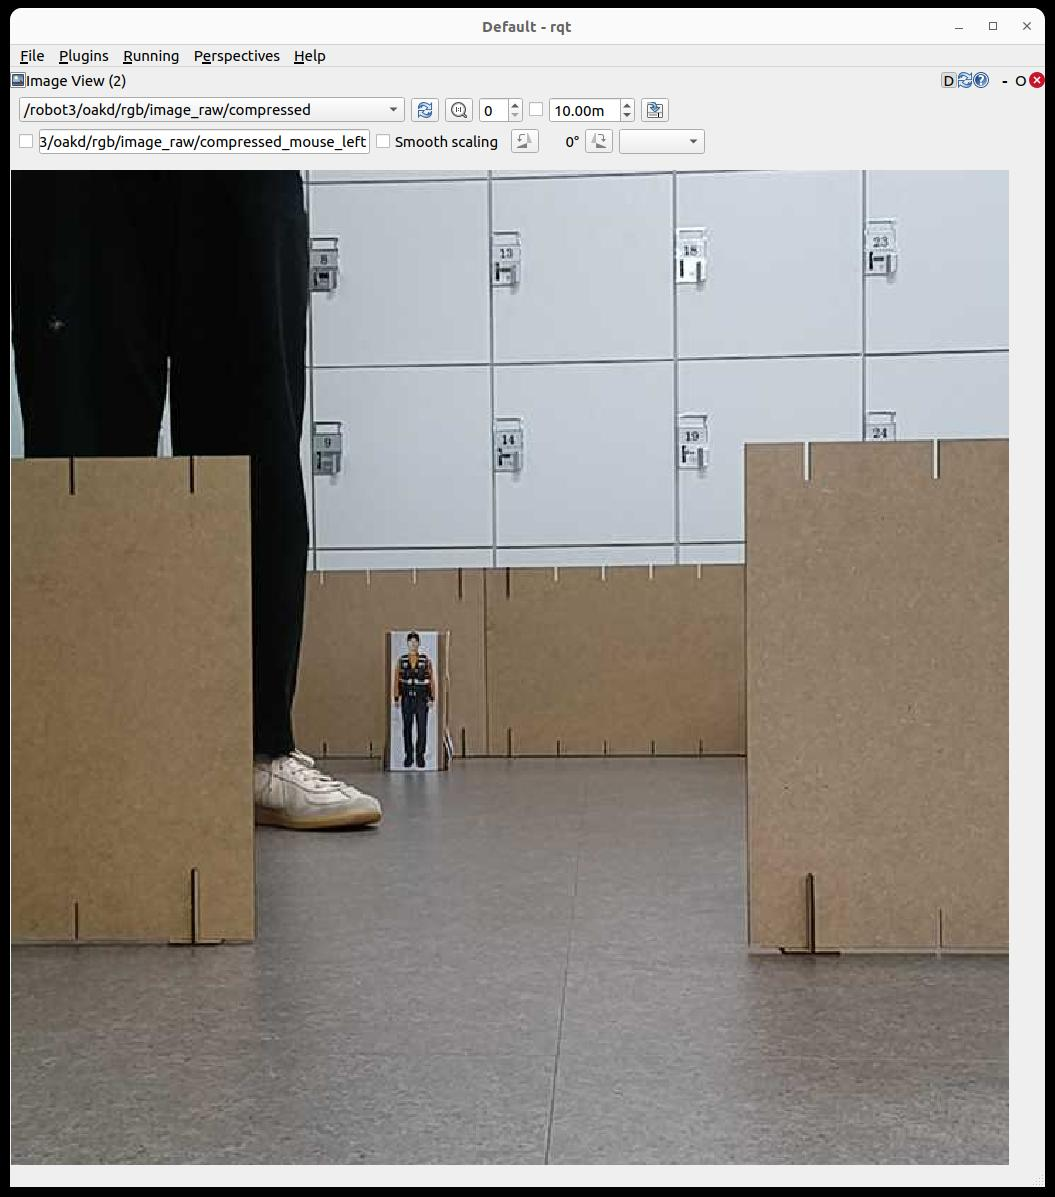Responder: (394, 633, 434, 766)
